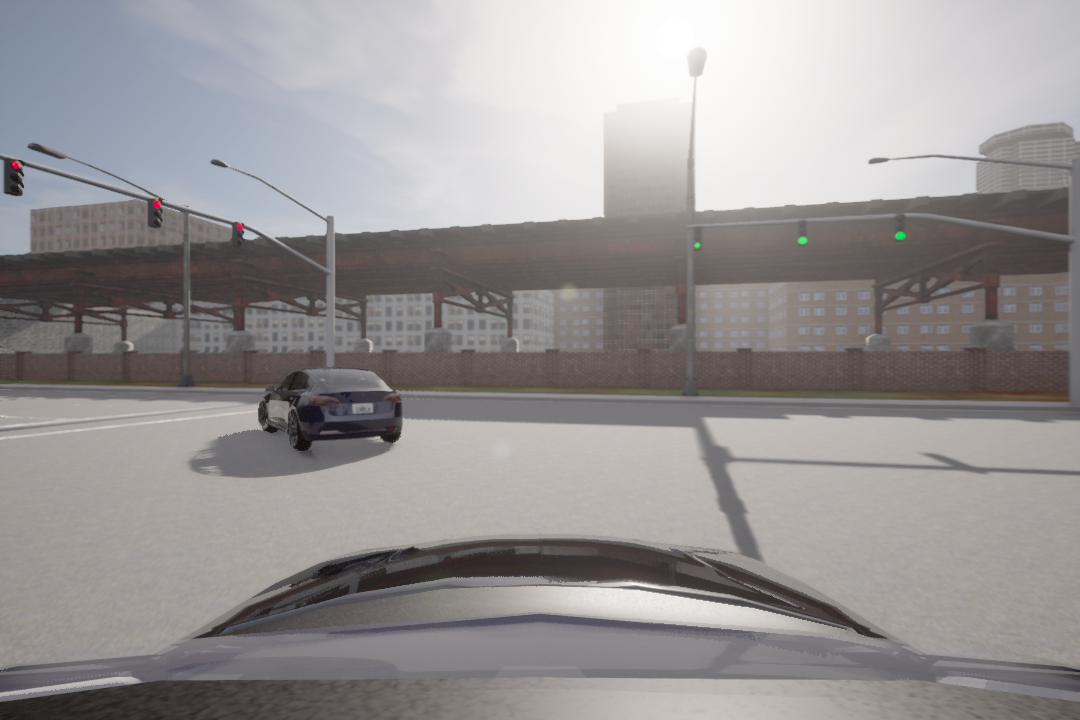TrafficLight: (1, 157, 24, 198), (146, 195, 165, 234), (889, 209, 908, 245), (227, 218, 247, 247), (797, 217, 811, 249), (691, 225, 704, 255)
